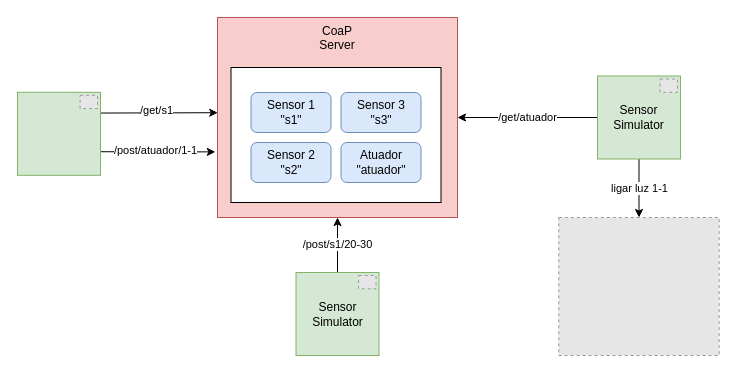
This 737x373 diagram has some shape labels left out. Grey dashed boxes stand in for pictures. Here are the shapes that lost their labels. From the top down, the box of each, then its label:
(16, 91, 100, 175): App 1
(230, 66, 441, 202): Recursos
